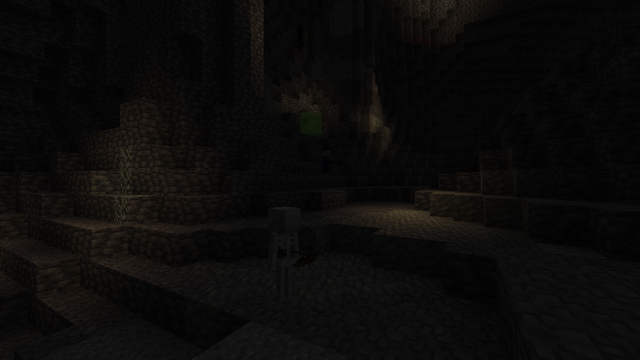endermens: (296, 25, 302, 52)
slimes: (295, 110, 324, 136)
sorcieres: (321, 149, 331, 174)
squelettes: (264, 206, 302, 307)
